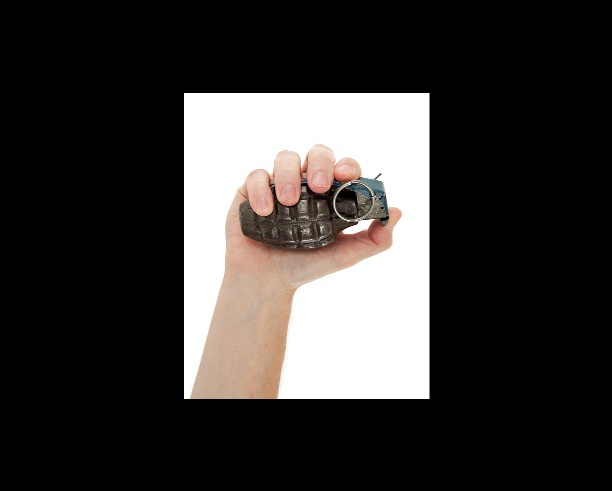e1: (237, 164, 393, 253)
